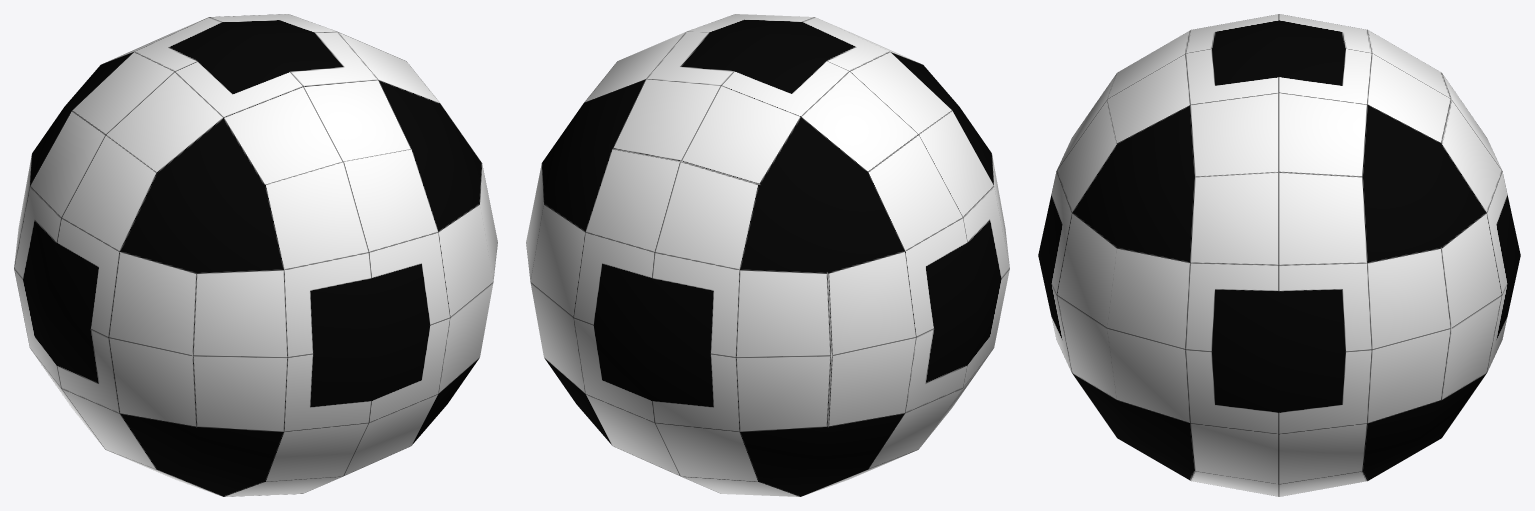
File: Voetbal.fbx
The picture shows the model from 3 angles, left to right: view 1: azimuth 30°, elevation 25°; view 2: azimuth 150°, elevation 25°; view 3: azimuth 270°, elevation 25°; orthographic projection.
Parts seen in each view (by area): view 1: polySurface7; view 2: polySurface7; view 3: polySurface7.
Part boxes in pixels (x1,y1,x2,y2): polySurface7: [14, 14, 497, 496]; polySurface7: [526, 14, 1009, 496]; polySurface7: [1038, 14, 1520, 496].
Bounding box in the file's own units: 1.23 × 1.23 × 1.23.
